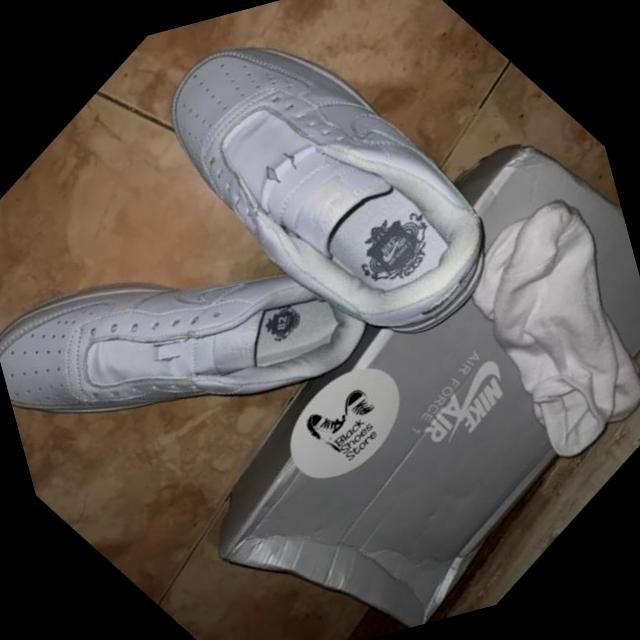nike_fake_airforce: (0, 88, 434, 584), (108, 0, 547, 422)
